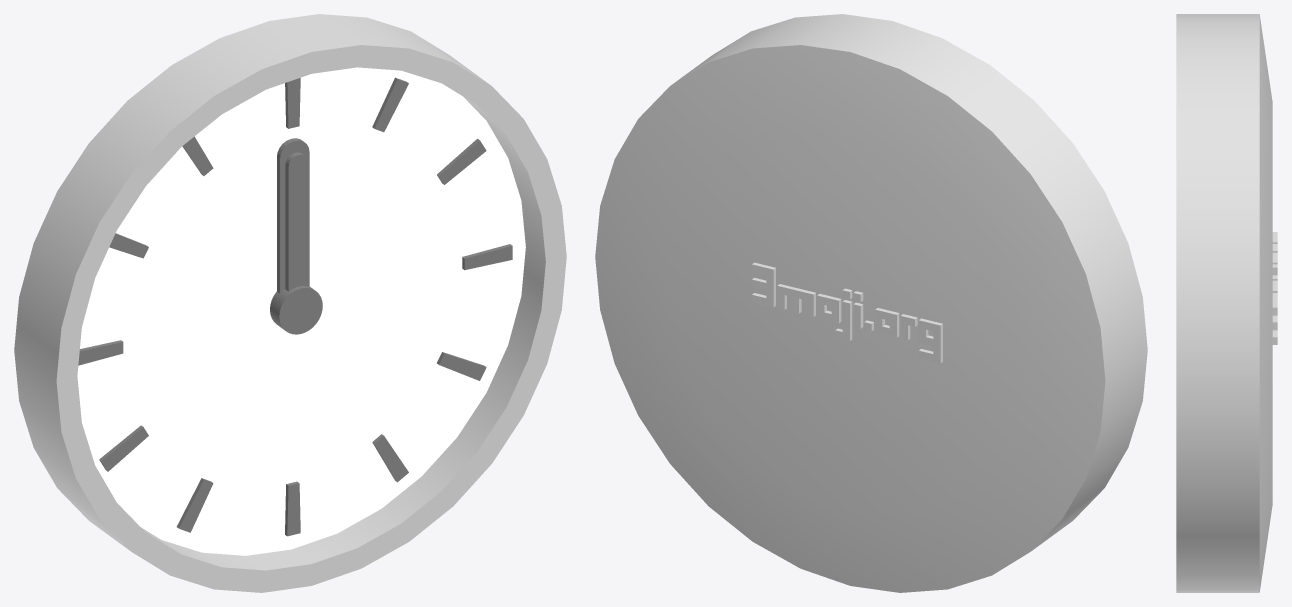
Rendered from twelve_oclock.glb.
3 renders of one model, left to right at view 1: azimuth 30°, elevation 25°; view 2: azimuth 150°, elevation 25°; view 3: azimuth 270°, elevation 25°, orthographic.
Parts seen in each view (by area): view 1: Circle.2429; view 2: Circle.2429; view 3: Circle.2429.
Boxes of the visible parts, x1,y1,x2,y2 form: Circle.2429: (14,14,566,592); Circle.2429: (595,14,1147,592); Circle.2429: (1176,14,1277,592).
Bounding box in the file's own units: 2.33 × 2.33 × 0.4069.
Materials: 1 (1 with a texture image).
